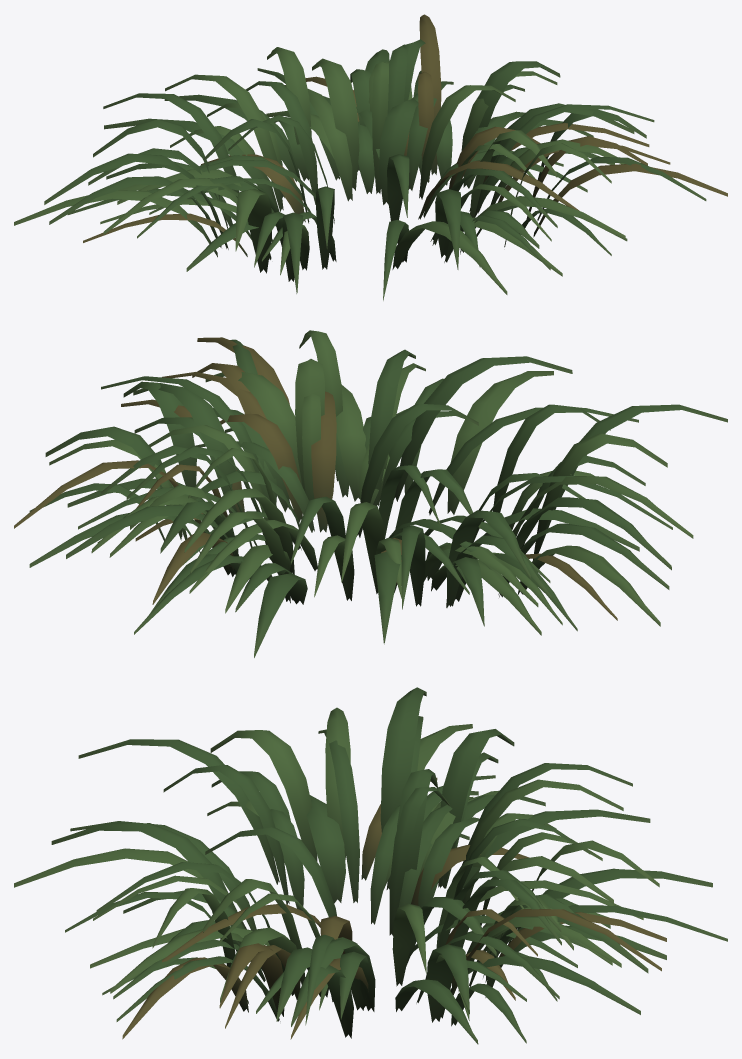
File: sedge-spread.glb
3 views of the same model, one above another, from view 1: azimuth 30°, elevation 25°; view 2: azimuth 150°, elevation 25°; view 3: azimuth 270°, elevation 25° (orthographic). The views are drawn at different scales.
Parts seen in each view (by area): view 1: RF06B sedge-spread; view 2: RF06B sedge-spread; view 3: RF06B sedge-spread.
Boxes of the visible parts, bbox=[...] form: RF06B sedge-spread: bbox=[14, 14, 727, 300]; RF06B sedge-spread: bbox=[14, 330, 727, 657]; RF06B sedge-spread: bbox=[14, 687, 727, 1044].
Size of the model in its own units: 1.68 by 0.3186 by 1.59.
